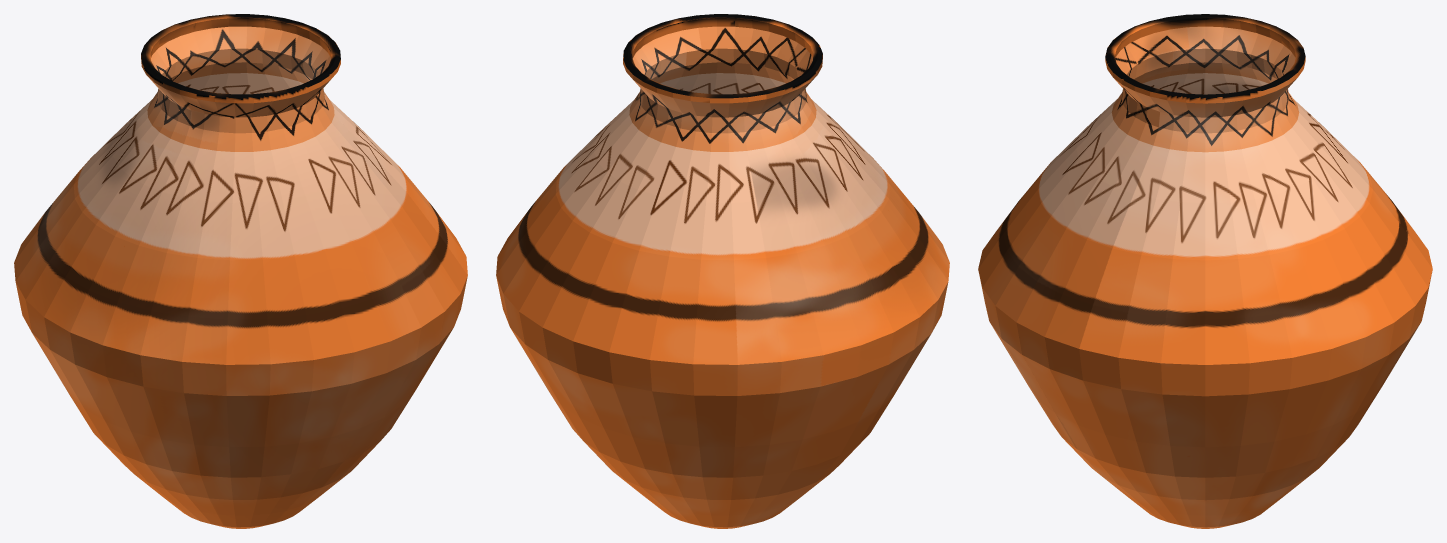
Rendered from ichinkian.glb.
3 views of the same model, side by side, from view 1: azimuth 30°, elevation 25°; view 2: azimuth 150°, elevation 25°; view 3: azimuth 270°, elevation 25° (orthographic).
Parts seen in each view (by area): view 1: Sphere; view 2: Sphere; view 3: Sphere.
Boxes of the visible parts, left/top/right/bottom form: Sphere: left=14, top=14, right=467, bottom=528; Sphere: left=496, top=14, right=949, bottom=528; Sphere: left=978, top=14, right=1432, bottom=528.
Bounding box in the file's own units: 1.74 × 1.95 × 1.74.
1 material, 1 textured.
